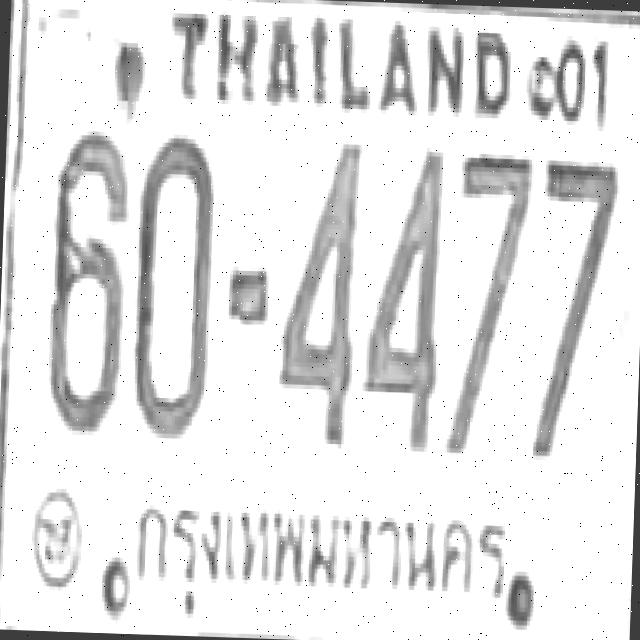0: (129, 133, 215, 440)
4: (274, 133, 362, 444), (358, 143, 444, 450)
6: (43, 127, 129, 434)
7: (445, 148, 534, 455), (529, 156, 618, 462), (536, 153, 618, 366)
Bangkok: (128, 483, 512, 629)
